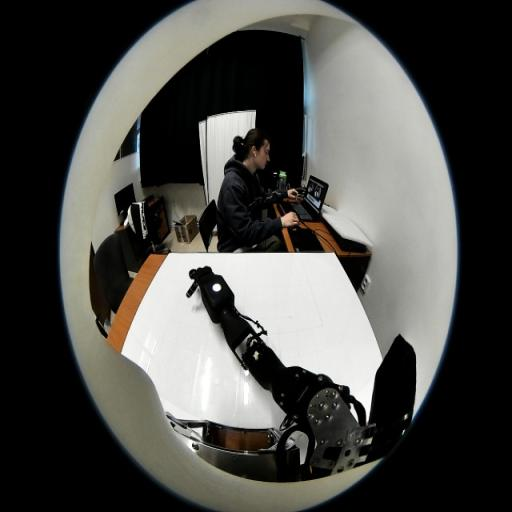RightHand: (196, 268, 212, 280)
